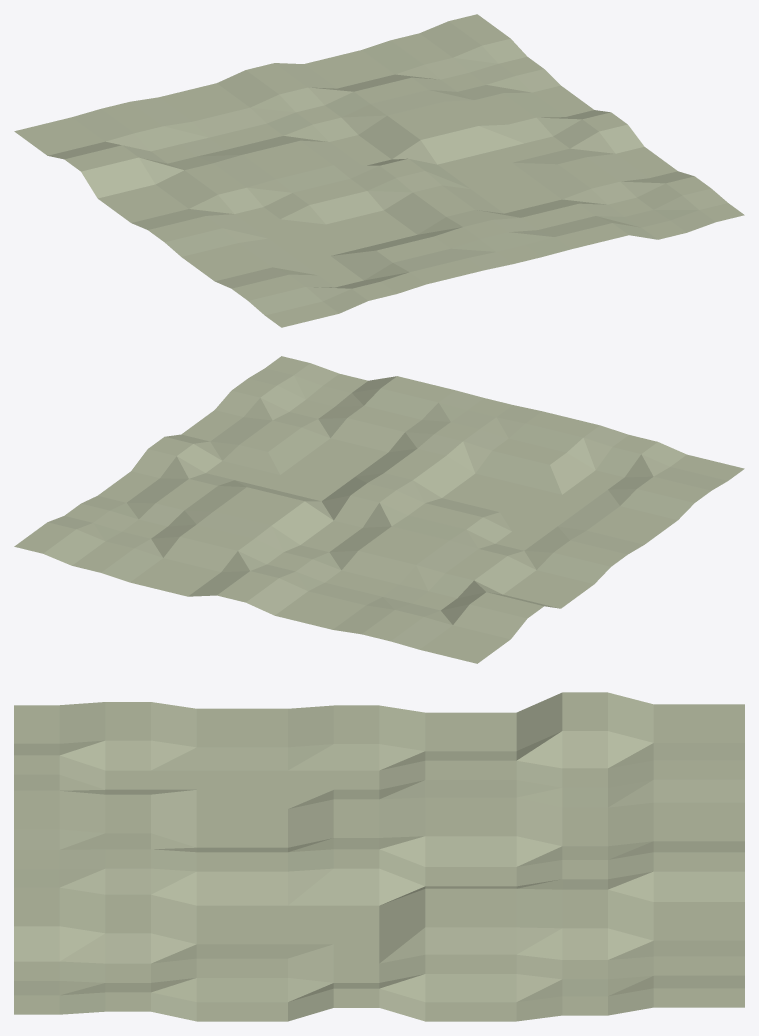
The picture shows the model from 3 angles, top to bottom: view 1: azimuth 30°, elevation 25°; view 2: azimuth 150°, elevation 25°; view 3: azimuth 270°, elevation 25°; orthographic projection. The views are drawn at different scales.
Bounding box in the file's own units: 32 × 0.9714 × 32.
